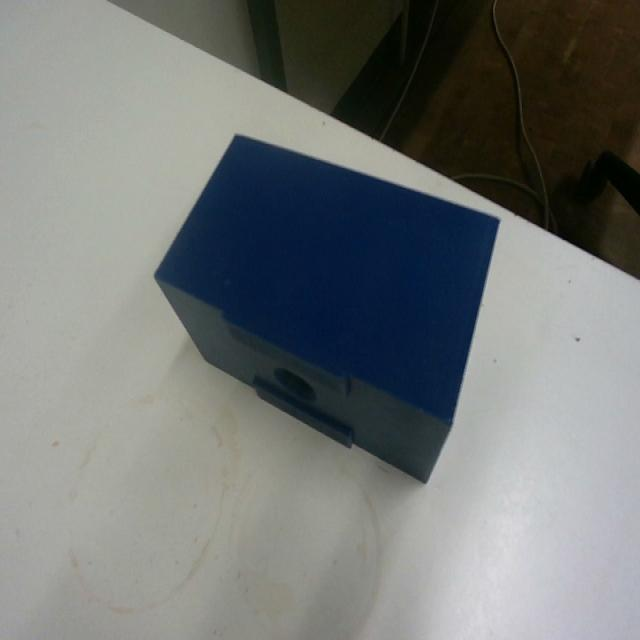Blue Cuboid: (152, 128, 501, 485)
